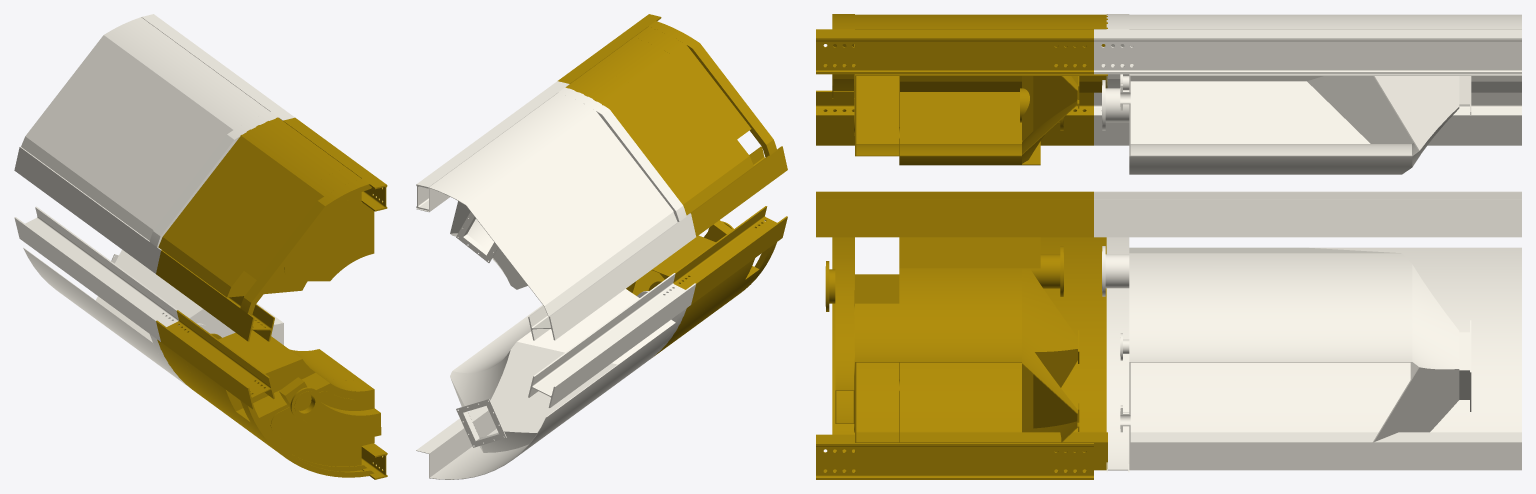
Rendered from (SBS) Cut.glb.
3 views of the same model, side by side, from view 1: azimuth 30°, elevation 25°; view 2: azimuth 150°, elevation 25°; view 3: azimuth 270°, elevation 25° (orthographic). The views are drawn at different scales.
Parts seen in each view (by area): view 1: Solid4, Solid13, Solid11, Solid22, Solid14, Solid12 (×2), Solid5, Solid6, Solid1, Solid25, Solid9 (×2), Solid30 (+7 smaller); view 2: Solid4, Solid5 (×2), Solid13, Solid11, Solid22, Solid6 (×2), Solid12, Solid1, Solid9, Solid8, Solid14, Solid2 (+3 smaller); view 3: Solid5, Solid4, Solid14, Solid9 (×2), Solid11, Solid13, Solid6 (×3), Solid3 (×2), Solid7 (×2), Solid21, Solid31, Solid12 (+6 smaller).
Part boxes in pixels (x1,y1,x2,y2): Solid4: (21,17,270,240); Solid13: (186,138,361,297); Solid11: (14,206,179,341); Solid22: (158,117,305,266); Solid14: (185,332,373,449); Solid12 (×2): (14,146,374,281); Solid5: (23,247,282,383); Solid6: (156,310,274,409); Solid1: (156,250,274,341); Solid25: (284,199,359,277); Solid9 (×2): (141,14,374,477); Solid30: (279,377,381,438); Solid4: (416,93,677,316); Solid5 (×2): (416,211,675,479); Solid13: (594,27,753,195); Solid11: (528,273,695,407); Solid22: (565,67,712,215); Solid6 (×2): (456,206,787,447); Solid12: (528,213,696,340); Solid1: (690,146,787,236); Solid9: (416,81,569,210); Solid8: (648,21,776,157); Solid14: (658,235,758,336); Solid2: (558,87,686,221); Solid5: (1130,247,1521,470); Solid4: (1130,14,1521,174); Solid14: (856,237,1021,442); Solid9 (×2): (832,29,1521,472); Solid11: (1094,191,1521,237); Solid13: (856,14,1021,165); Solid6 (×3): (816,14,1471,411); Solid3 (×2): (816,237,1129,479); Solid7 (×2): (816,29,1130,470); Solid21: (1022,237,1107,470); Solid31: (1022,237,1077,442); Solid12: (1094,92,1521,145).
Size of the model in its own units: 1.94 by 3.87 by 5.61.
